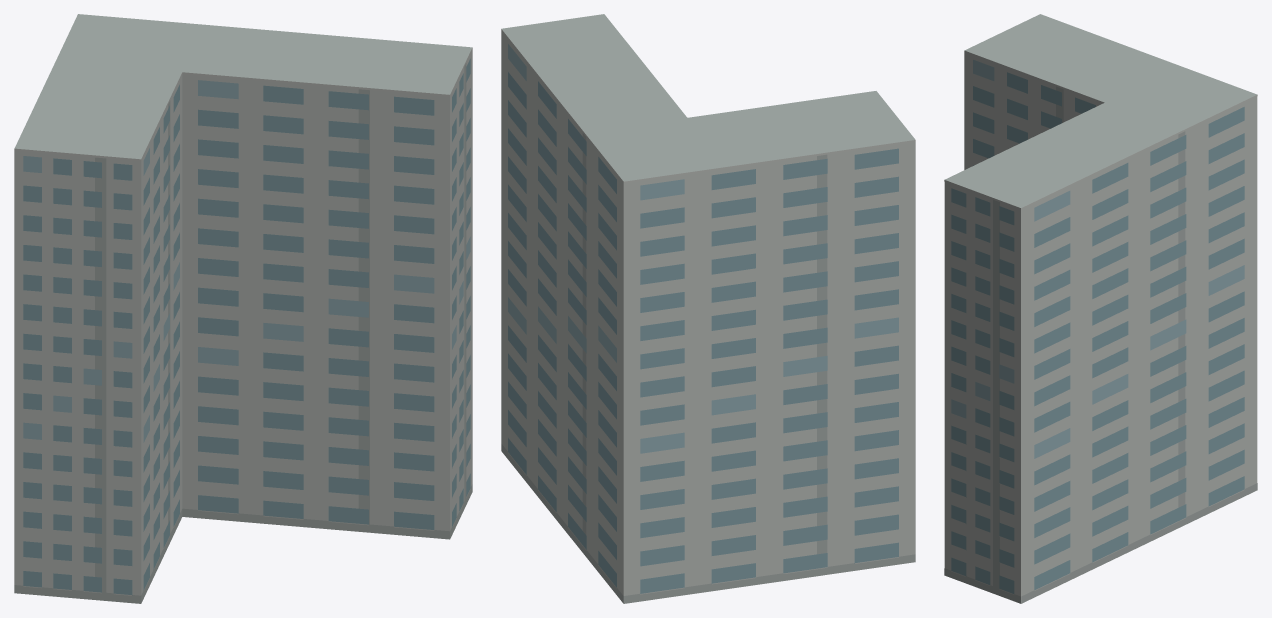
File: residential-0136bcdc-8384-45b7-a287-6a55a1f6319c.glb
The picture shows the model from 3 angles, left to right: view 1: azimuth 30°, elevation 25°; view 2: azimuth 150°, elevation 25°; view 3: azimuth 270°, elevation 25°; orthographic projection. The views are drawn at different scales.
Visible parts, largest first — view 1: residential-0136bcdc-8384-45b7-a287-6a55a1f6319c.tmp; view 2: residential-0136bcdc-8384-45b7-a287-6a55a1f6319c.tmp; view 3: residential-0136bcdc-8384-45b7-a287-6a55a1f6319c.tmp.
Boxes of the visible parts, x1,y1,x2,y2 form: residential-0136bcdc-8384-45b7-a287-6a55a1f6319c.tmp: (14, 14, 472, 603); residential-0136bcdc-8384-45b7-a287-6a55a1f6319c.tmp: (501, 14, 915, 603); residential-0136bcdc-8384-45b7-a287-6a55a1f6319c.tmp: (944, 14, 1257, 603).
Bounding box in the file's own units: 53.69 × 51 × 36.57.
